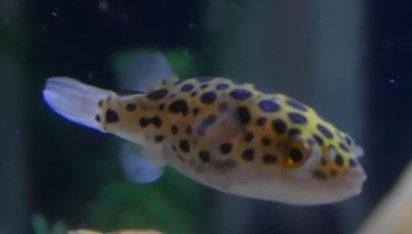Green Spotted Puffer: (44, 70, 368, 208)
